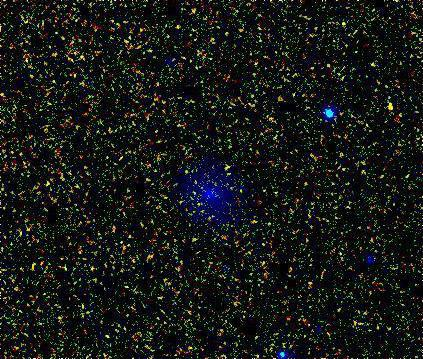star: (375, 92, 405, 122)
